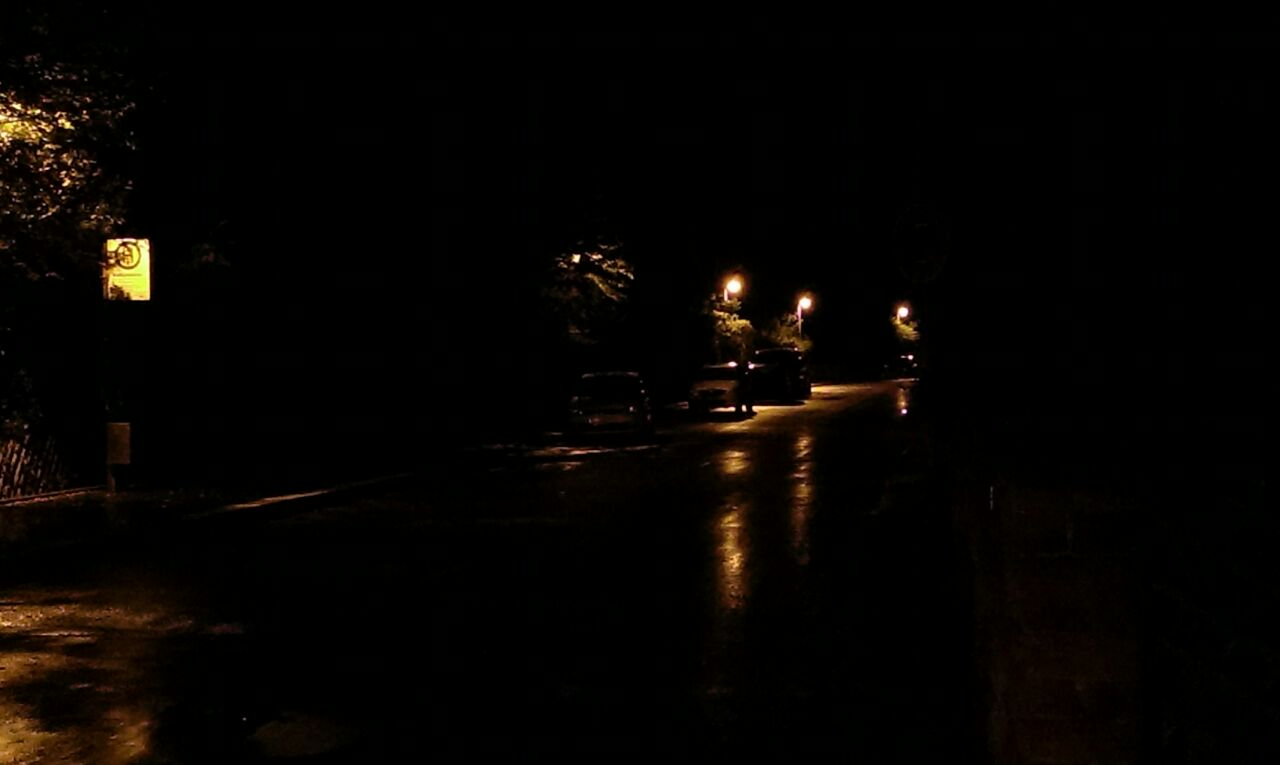car: (561, 365, 659, 452)
